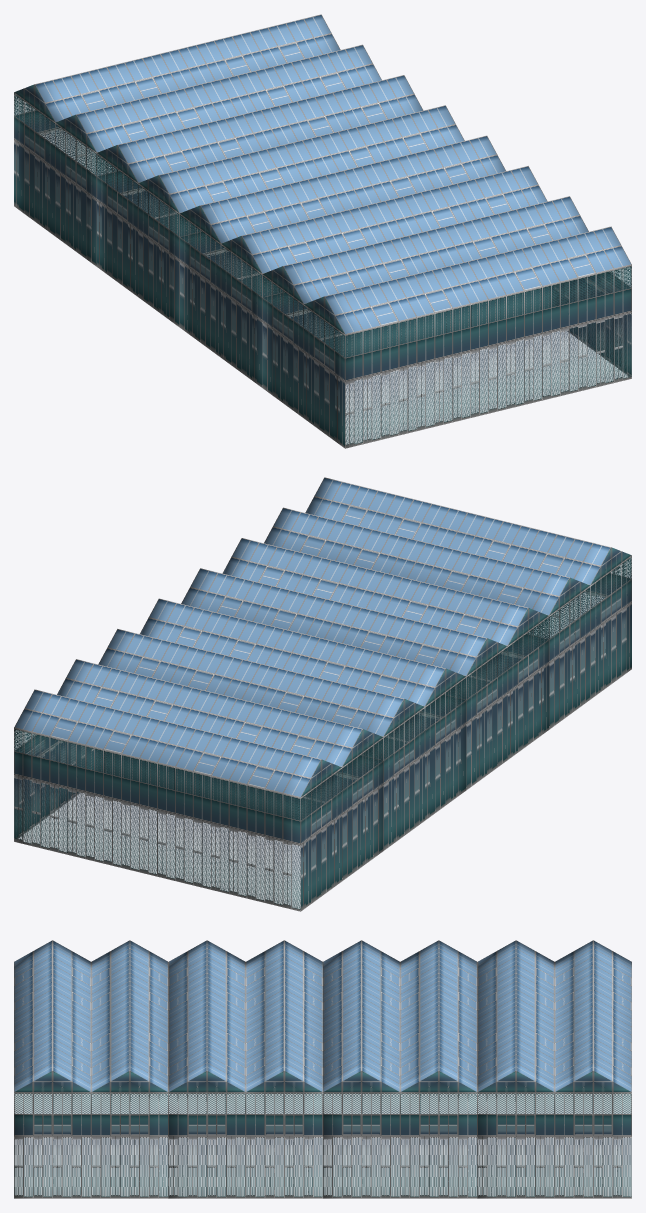
The model's file is kas_mod3_3a.fbx.
3 views of the same model, one above another, from view 1: azimuth 30°, elevation 25°; view 2: azimuth 150°, elevation 25°; view 3: azimuth 270°, elevation 25° (orthographic). The views are drawn at different scales.
Visible parts, largest first — view 1: kas_mod3_3a; view 2: kas_mod3_3a; view 3: kas_mod3_3a.
Part boxes in pixels (box(x1,y1,x2,y2)): kas_mod3_3a: box(14, 14, 631, 448); kas_mod3_3a: box(14, 477, 631, 911); kas_mod3_3a: box(14, 940, 631, 1198).
Bounding box in the file's own units: 4000 × 1829 × 8000.
